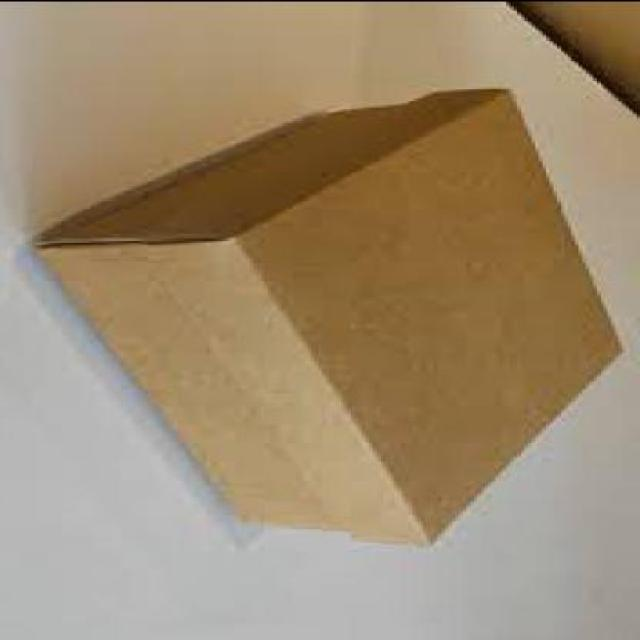cardboard: (36, 91, 630, 546)
